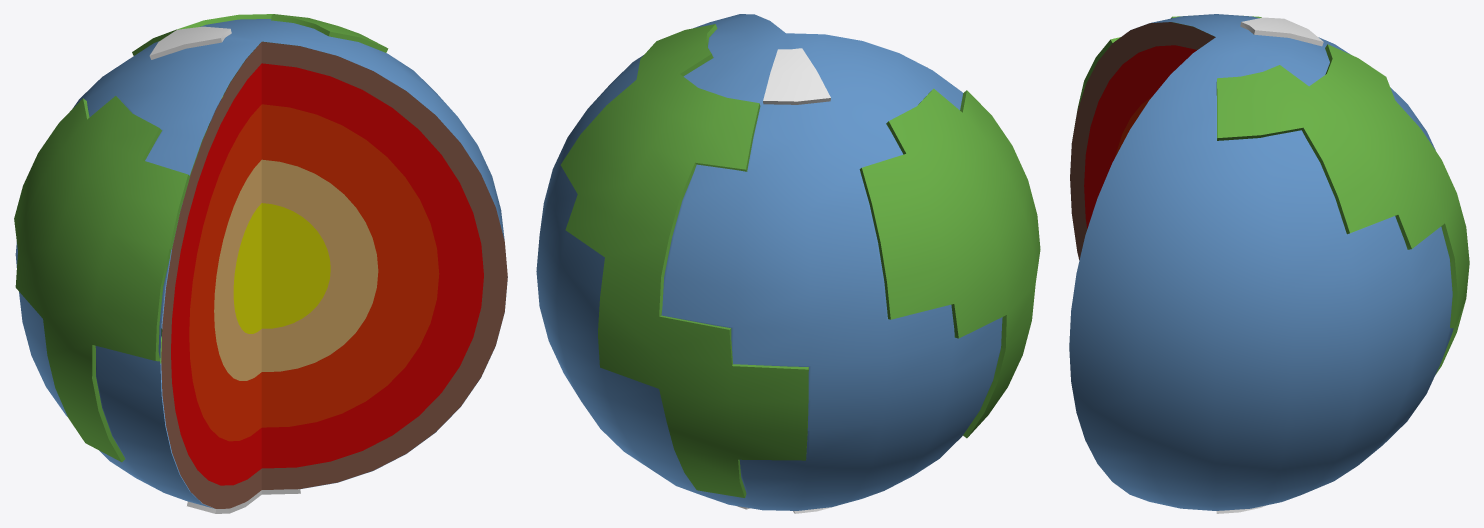
File: Earth_Sliced_v02(1).fbx
The picture shows the model from 3 angles, left to right: view 1: azimuth 30°, elevation 25°; view 2: azimuth 150°, elevation 25°; view 3: azimuth 270°, elevation 25°; orthographic projection.
Visible parts, largest first — view 1: right_slice, Earth_Green, left_slice; view 2: Earth_Green; view 3: Earth_Green, left_slice.
Part boxes in pixels (x1=…): right_slice: x1=261, y1=41, x2=507, y2=489; Earth_Green: x1=14, y1=14, x2=507, y2=513; left_slice: x1=161, y1=42, x2=261, y2=508; Earth_Green: x1=536, y1=14, x2=1040, y2=513; Earth_Green: x1=1069, y1=14, x2=1469, y2=513; left_slice: x1=1070, y1=22, x2=1215, y2=260.
Bounding box in the file's own units: 2.16 × 2.17 × 1.72.
